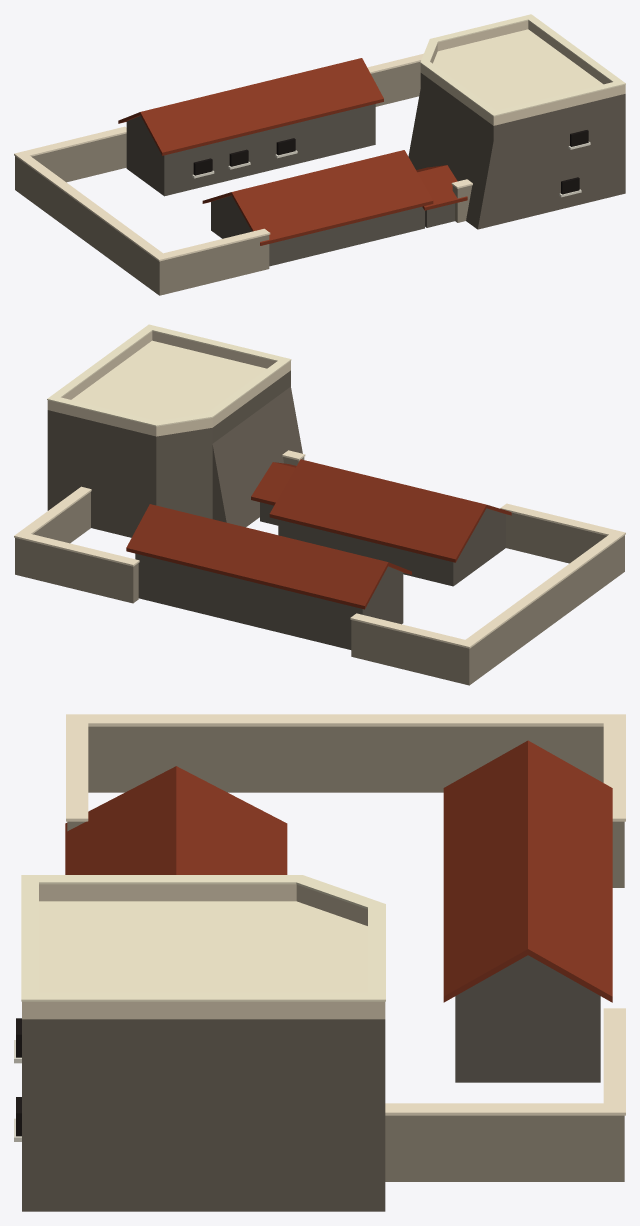
Rendered from VerBuild06.glb.
3 renders of one model, top to bottom at view 1: azimuth 30°, elevation 25°; view 2: azimuth 150°, elevation 25°; view 3: azimuth 270°, elevation 25°, orthographic. The views are drawn at different scales.
Parts seen in each view (by area): view 1: VerBuild06_roof; view 2: VerBuild06_roof; view 3: VerBuild06_roof.
Boxes of the visible parts, bbox=[...] form: VerBuild06_roof: bbox=[14, 14, 625, 295]; VerBuild06_roof: bbox=[14, 324, 625, 685]; VerBuild06_roof: bbox=[14, 714, 625, 1211].
Size of the model in its own units: 15.74 by 3.64 by 9.51.
